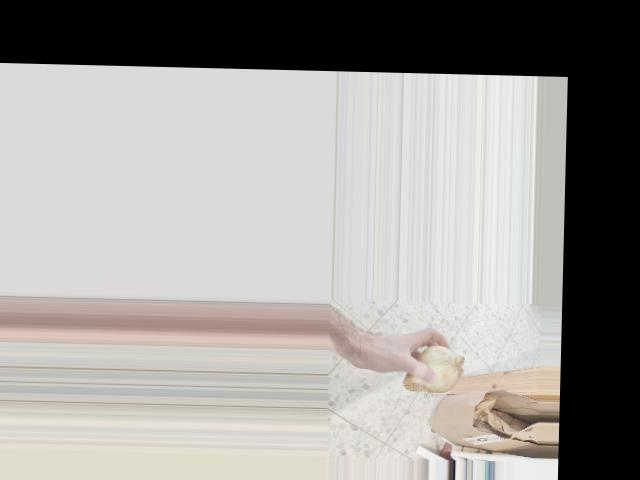onion: (400, 339, 467, 398)
